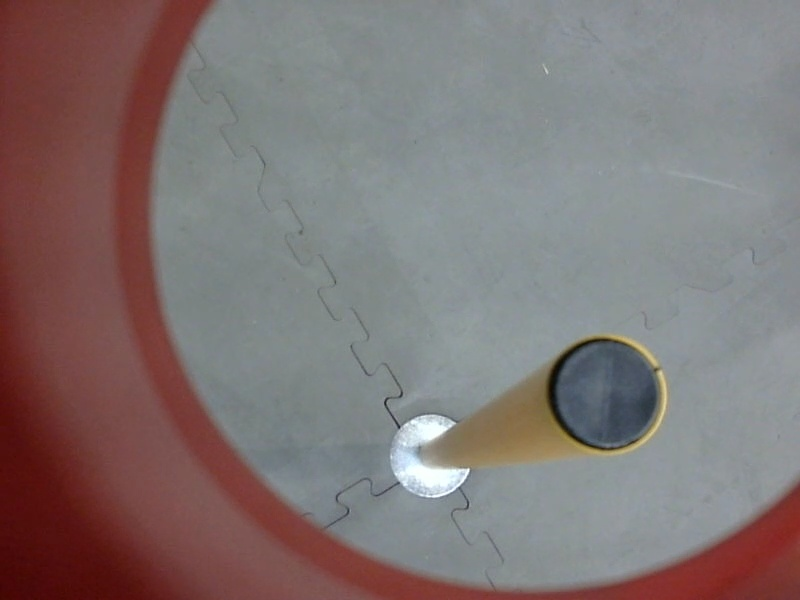tip: (544, 326, 672, 460)
